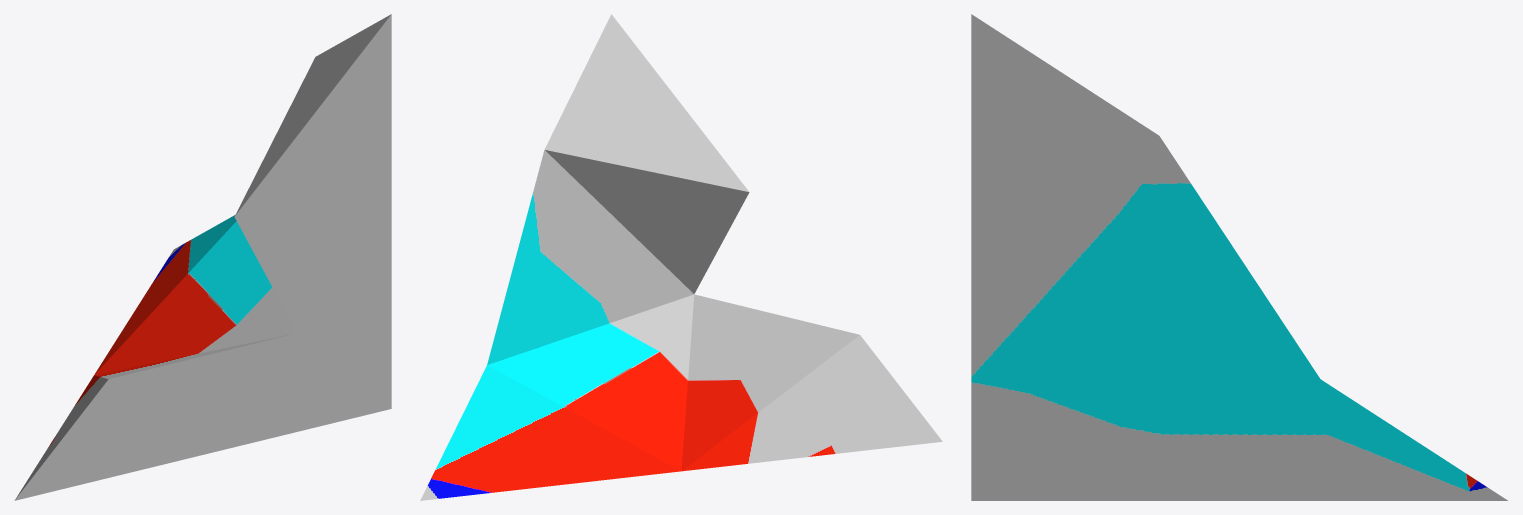
File: CubeFragment3.fbx
3 renders of one model, left to right at view 1: azimuth 30°, elevation 25°; view 2: azimuth 150°, elevation 25°; view 3: azimuth 270°, elevation 25°, orthographic. The views are drawn at different scales.
Visible parts, largest first — view 1: CubeFragment3; view 2: CubeFragment3; view 3: CubeFragment3.
Boxes of the visible parts, x1,y1,x2,y2 form: CubeFragment3: (14,14,391,500); CubeFragment3: (420,14,942,500); CubeFragment3: (971,14,1507,500).
Bounding box in the file's own units: 1 × 1 × 1.
